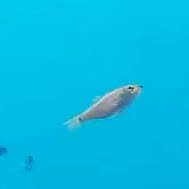smallfish: (61, 68, 161, 130)
